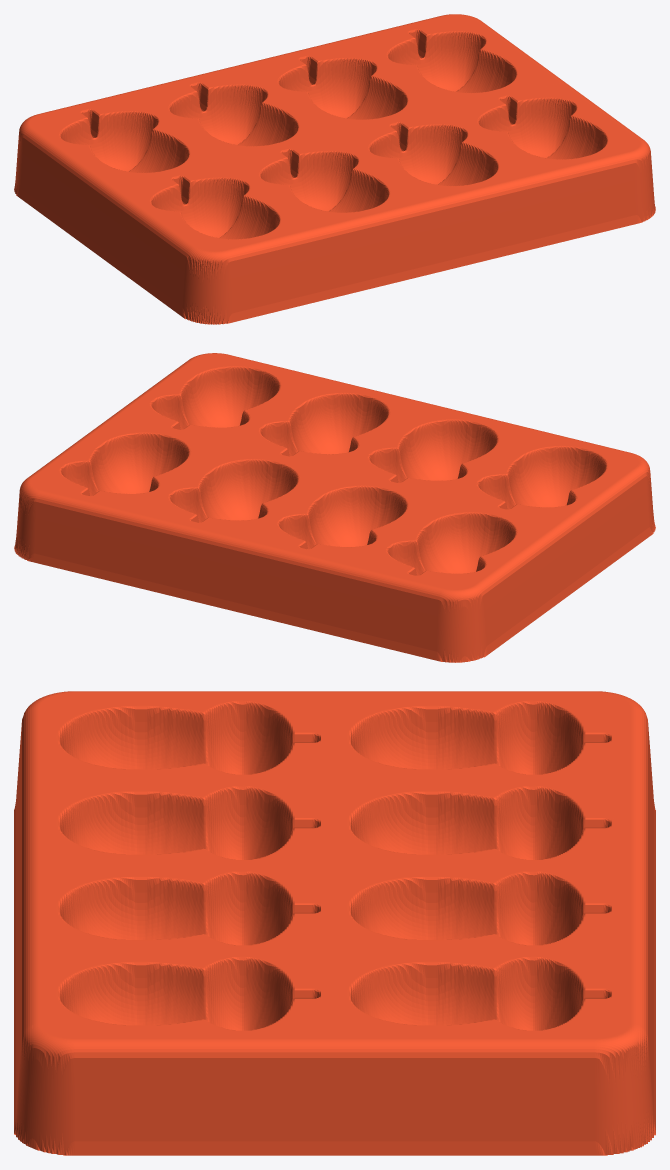
File: mold.glb
3 renders of one model, top to bottom at view 1: azimuth 30°, elevation 25°; view 2: azimuth 150°, elevation 25°; view 3: azimuth 270°, elevation 25°, orthographic. The views are drawn at different scales.
Visible parts, largest first — view 1: geometry_0; view 2: geometry_0; view 3: geometry_0.
Part boxes in pixels (x1,y1,x2,y2): geometry_0: (14,14,655,324); geometry_0: (14,353,655,662); geometry_0: (14,691,655,1155).
Bounding box in the file's own units: 0.1293 × 0.0175 × 0.0956.
